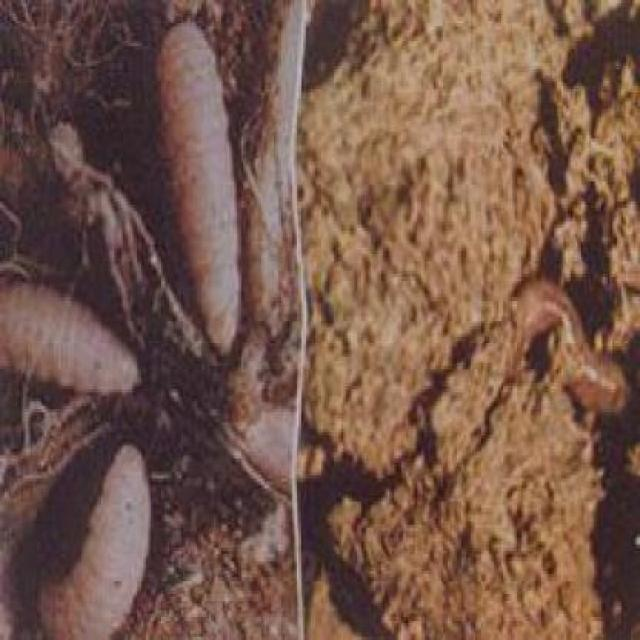whorl-maggot: (150, 13, 263, 369), (20, 434, 163, 637), (3, 271, 143, 414)
